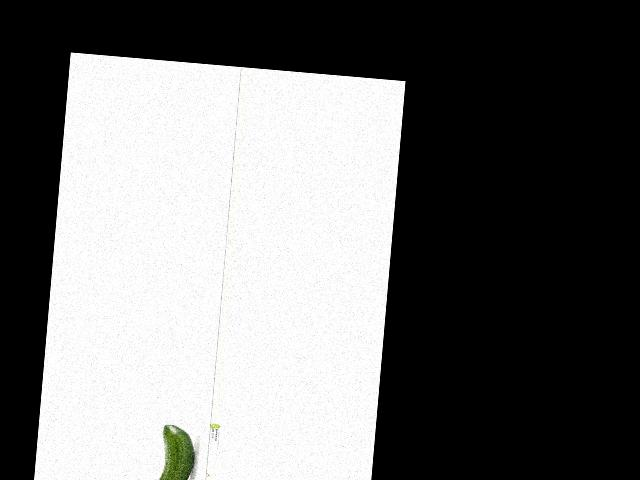cucumber: (157, 424, 196, 480)
